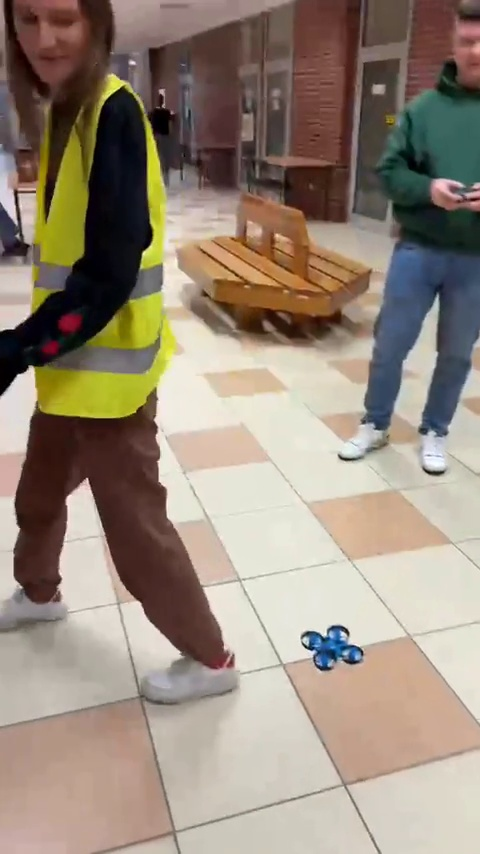drone: (301, 632, 367, 668)
no vest: (337, 2, 479, 477)
vest: (2, 2, 243, 710)
